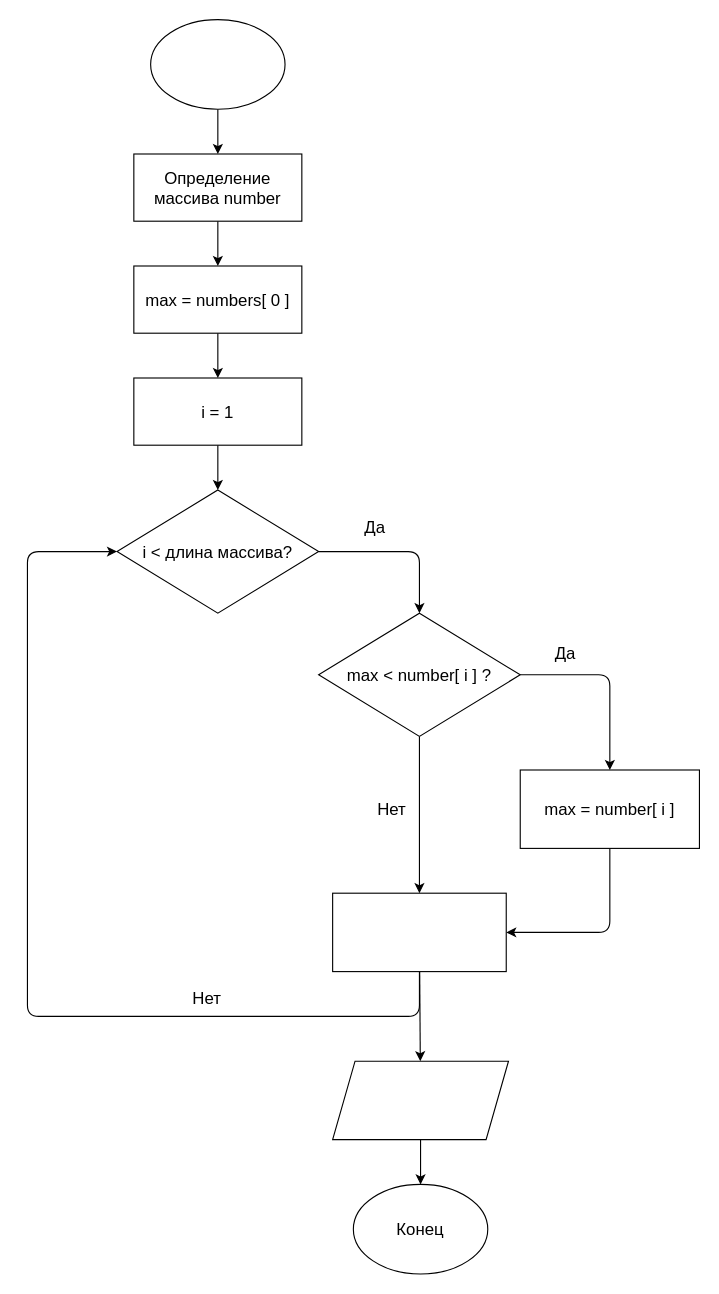
The diagram is 719 pixels wide and 1294 high, and some of its shapes have lost their labels. The shapes that lost their labels are listed below. From the top down, each one's centre as x and y in pixels, then its label:
At pixel 217 63: "Начало".
At pixel 419 932: "i += 1".
At pixel 420 1100: "Вывод: max".
